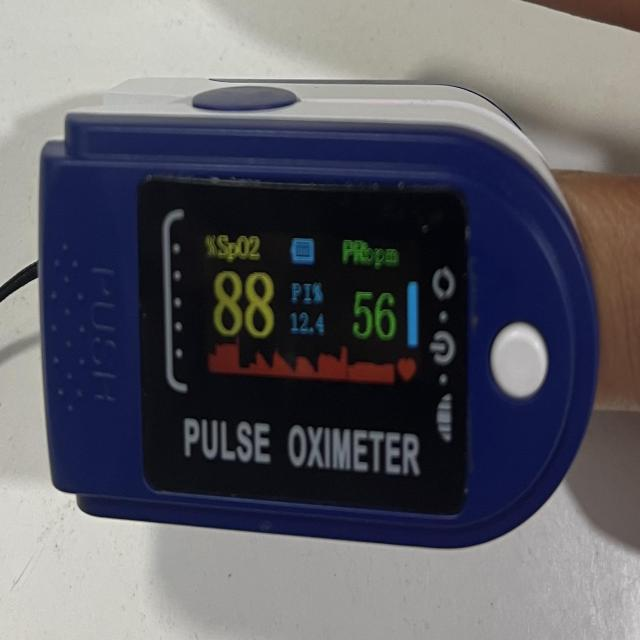spo2: (16, 80, 599, 552)
